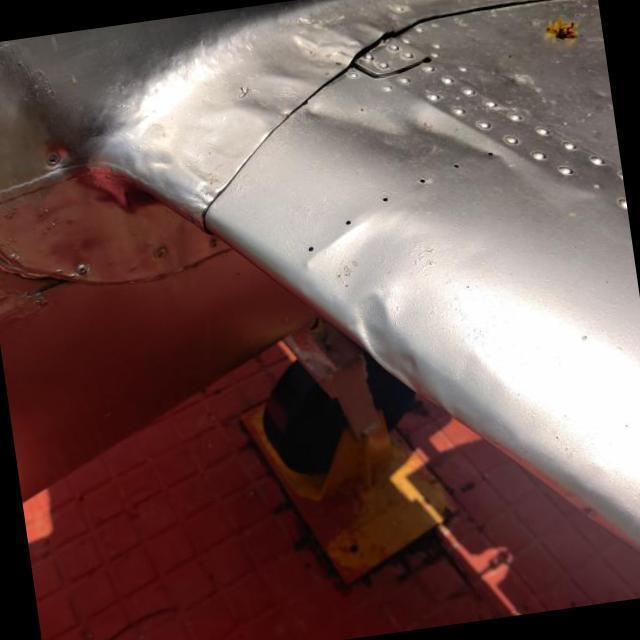Dent: (293, 66, 516, 204), (338, 271, 444, 412)
